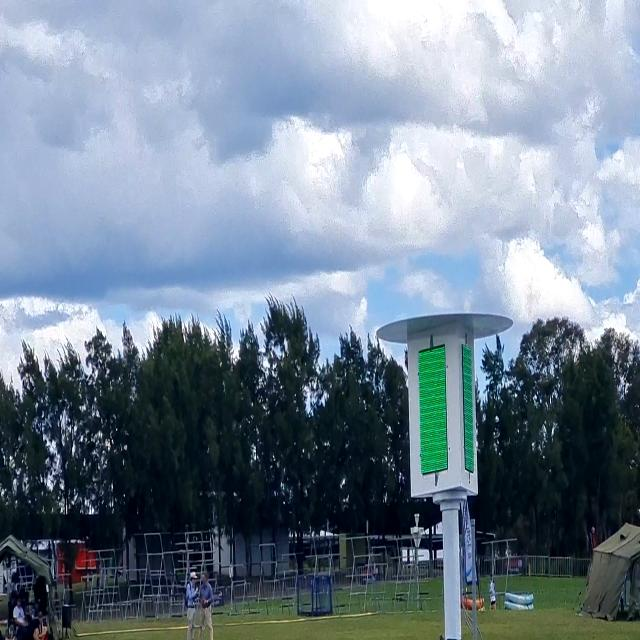led: (412, 335, 454, 483), (460, 333, 474, 485)
